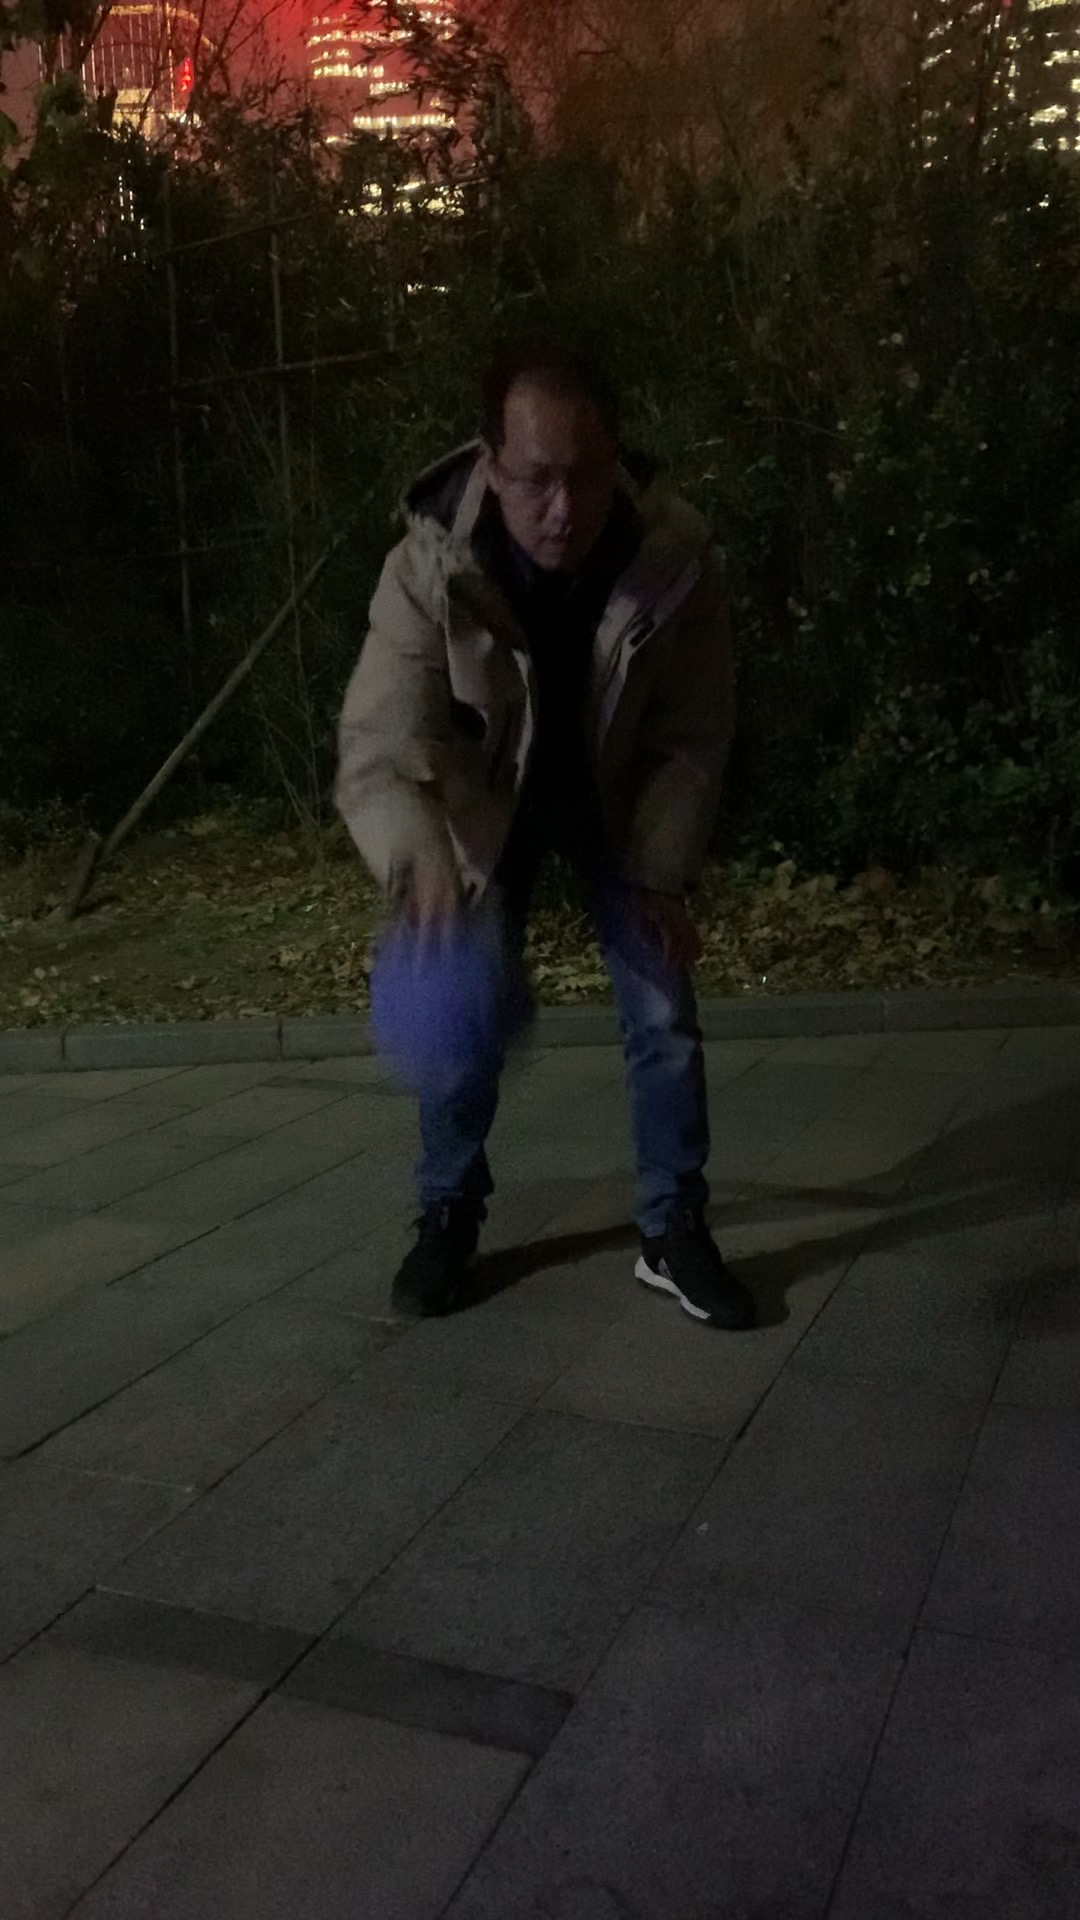ball: (369, 920, 545, 1096)
